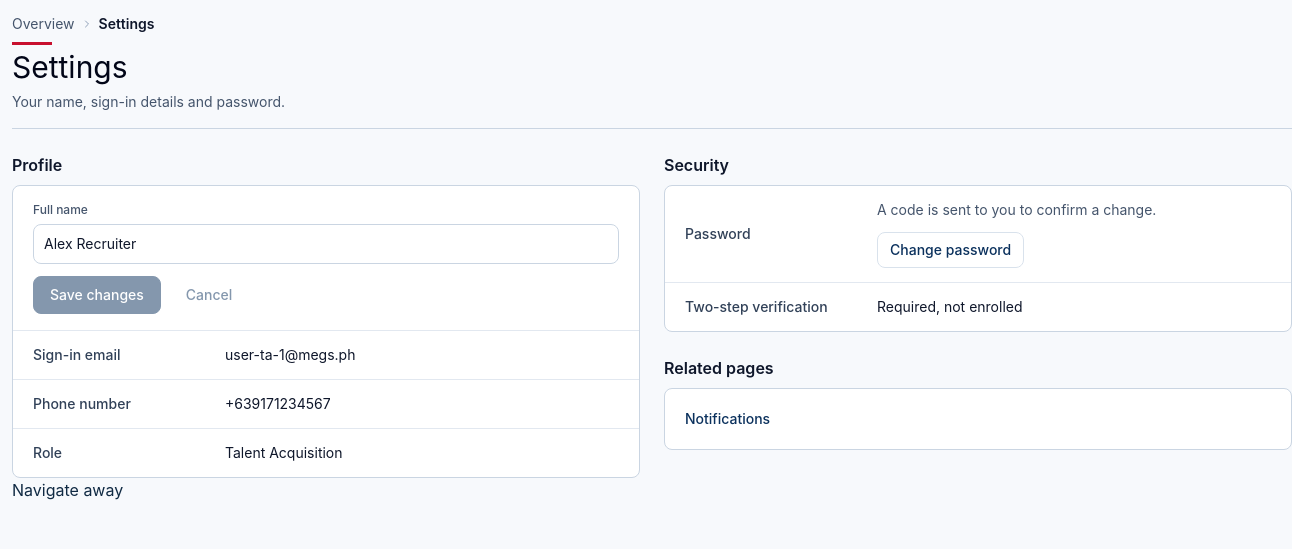
Test: SettingsPage › keeps the submitted name visible when saving fails
Replace the text in the field labelled "Full name" with "Taylor Wu" at (326,244), box [33, 224, 619, 264]
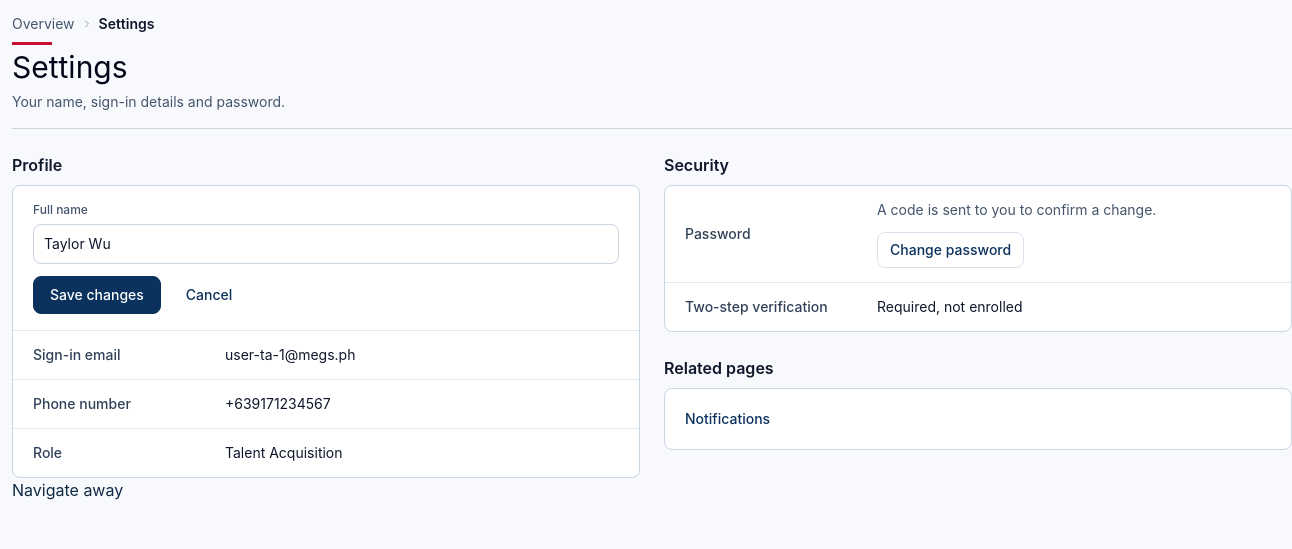
Click the button "Save changes".
click(97, 294)  # box [33, 276, 161, 314]
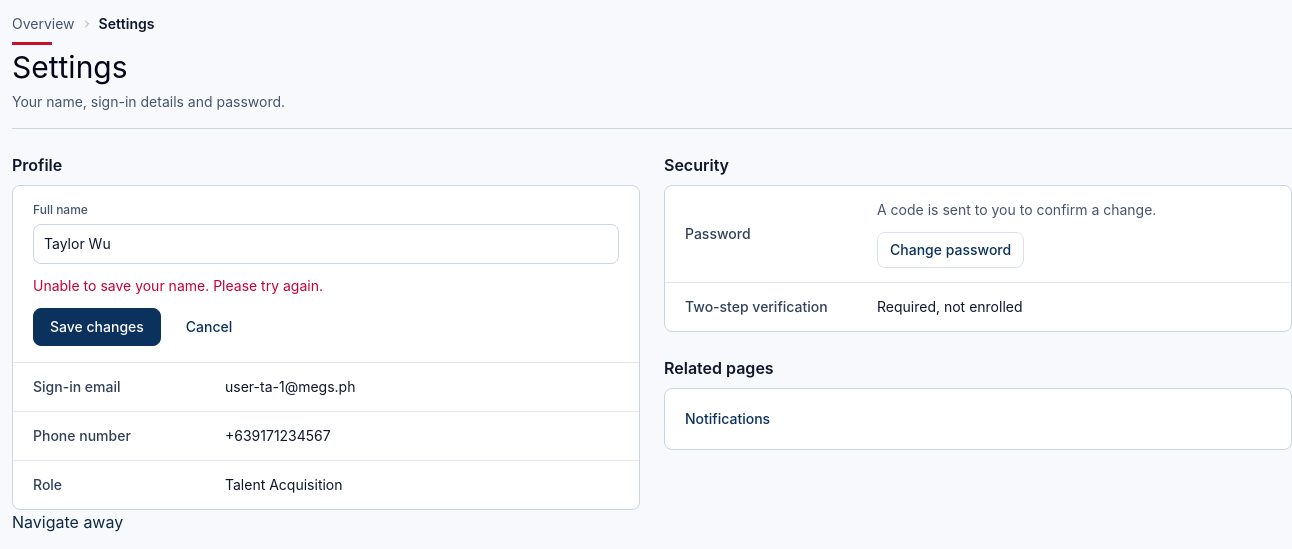
Check: the message reads "Unable to save your name. Please try again.", box [33, 276, 323, 294]
